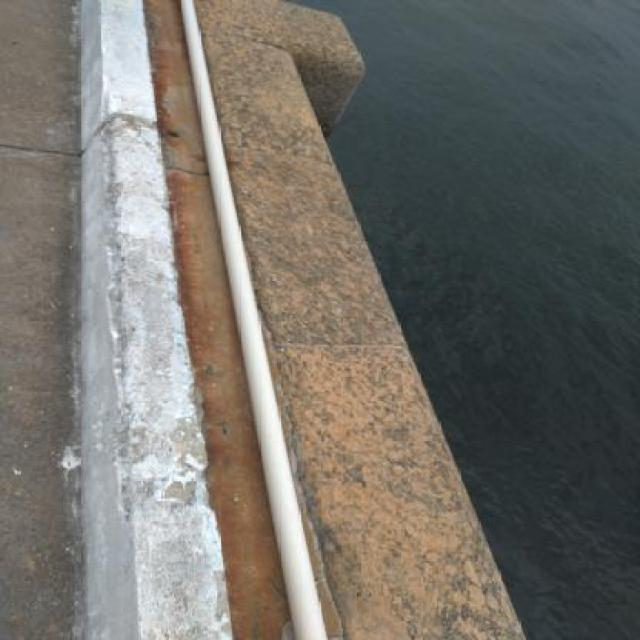gas: (182, 0, 329, 640)
